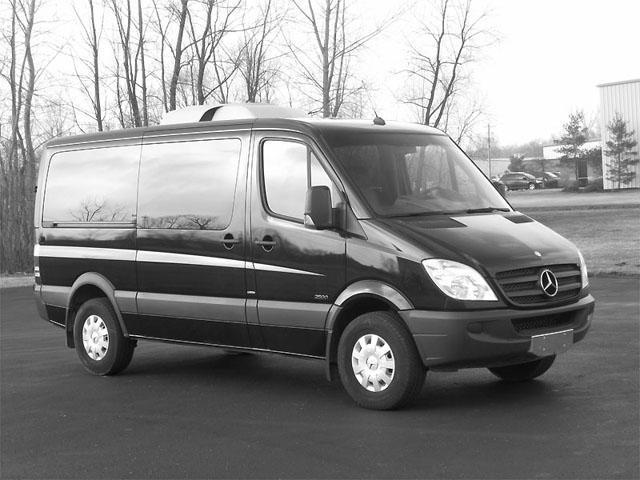car: (34, 108, 595, 410)
